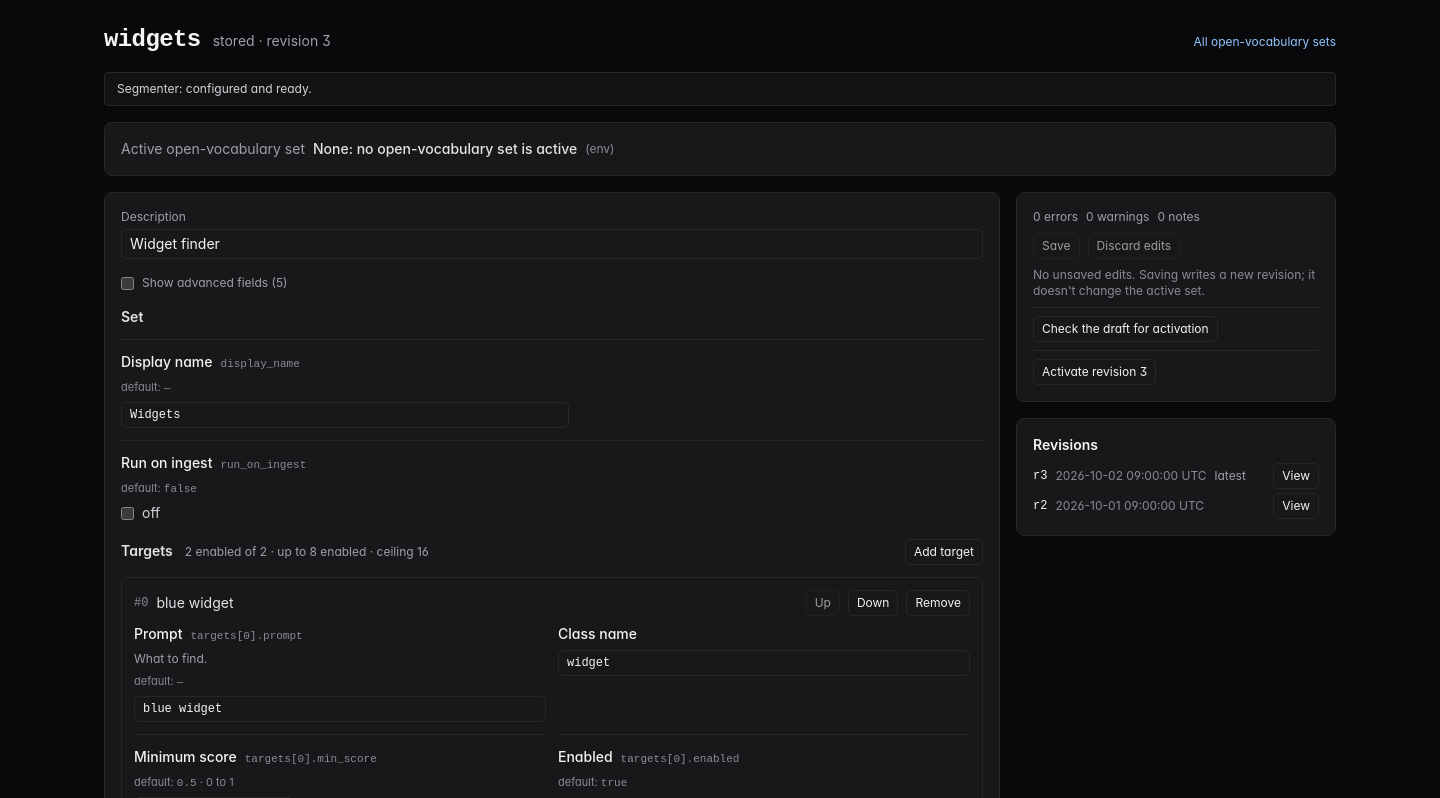
Test: /settings/open-vocab/[name] › Save sends expected_revision and the edited body
This screenshot has width=1440, height=798.
Step 1. Replace the text in the field labelled "Prompt" with "red widget" → (340, 709), box top-left (134, 696), bottom-right (546, 722)
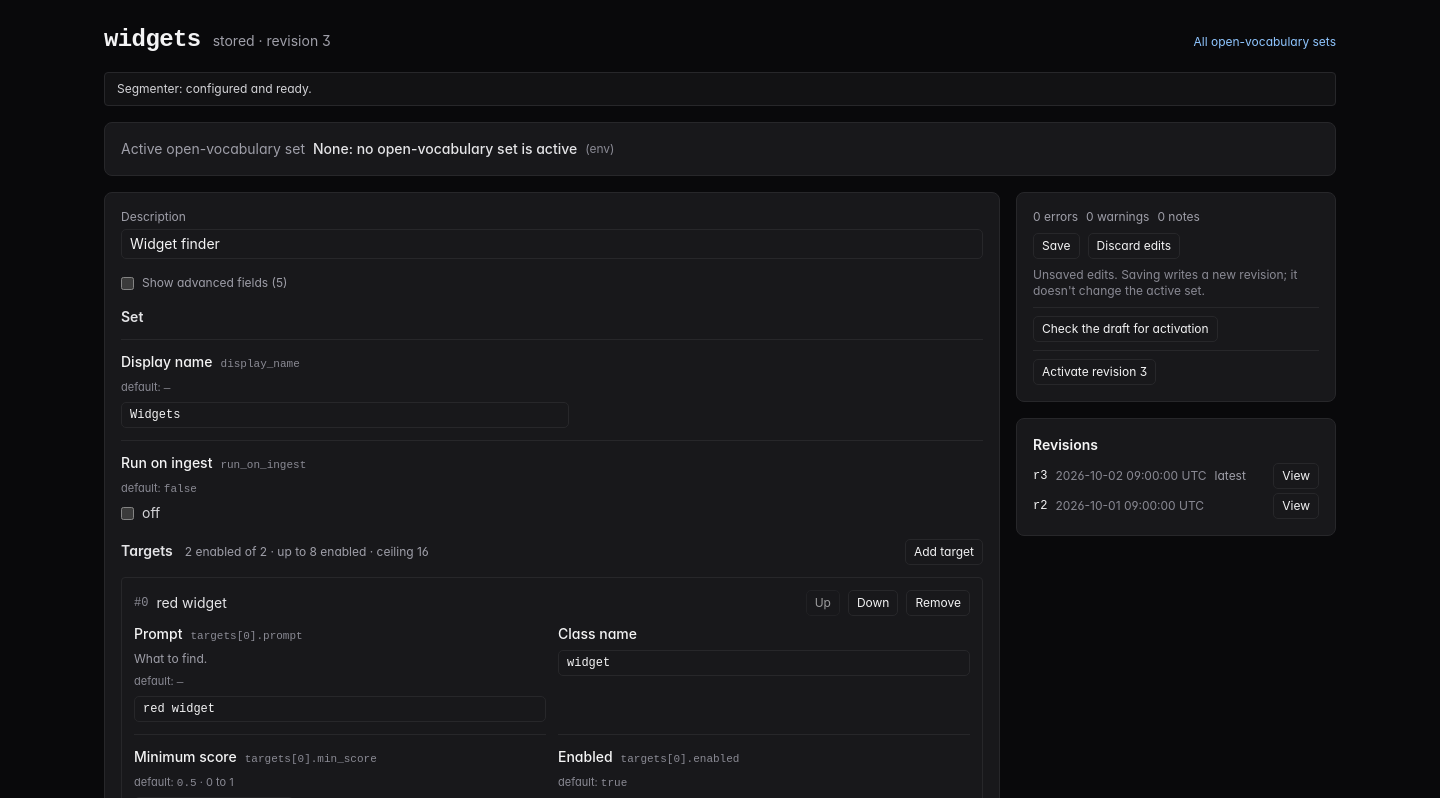
Step 2. Click the button "Save" → (1056, 246), box top-left (1033, 233), bottom-right (1080, 259)
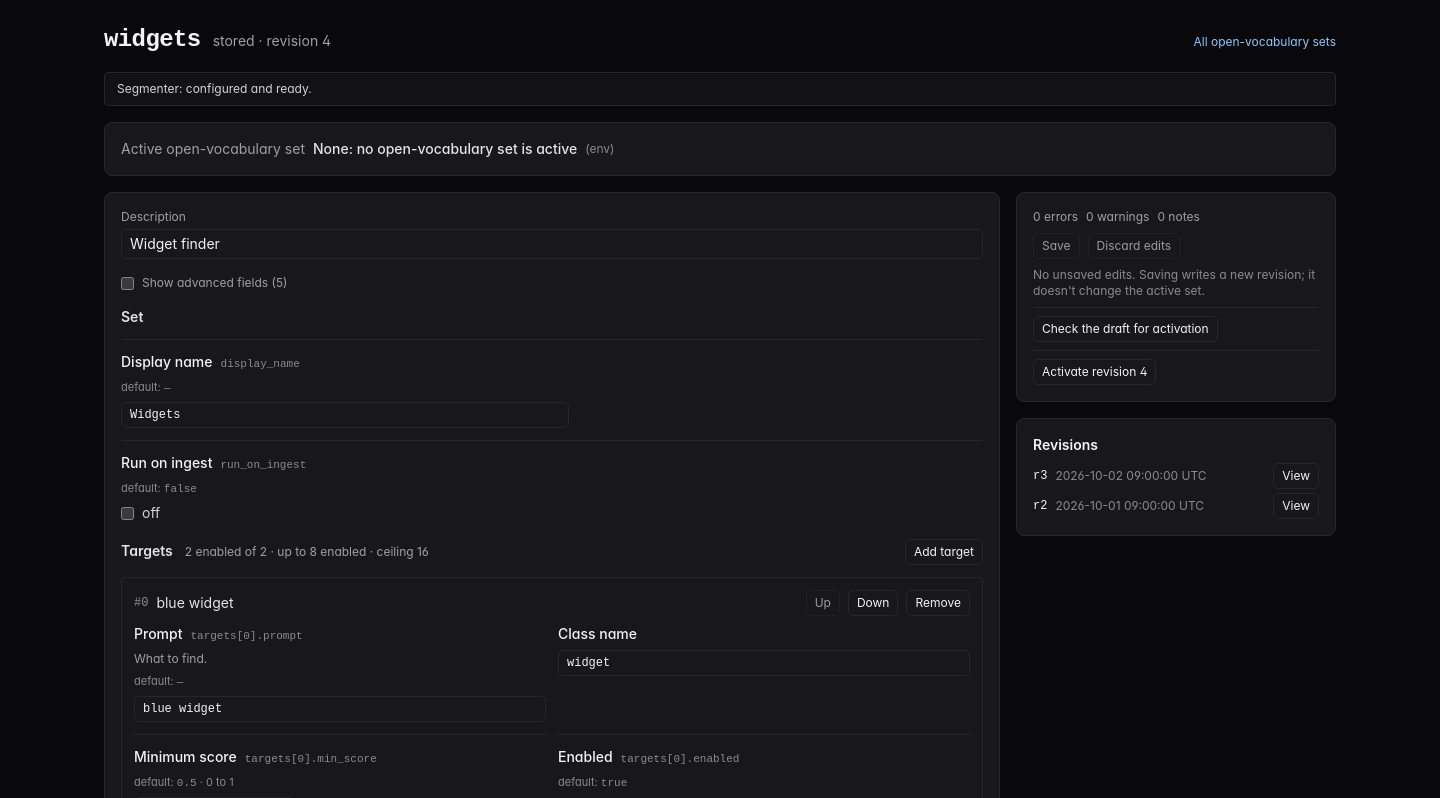
Expected: the text "blue widget" is shown, top-left (156, 593), bottom-right (234, 613)
